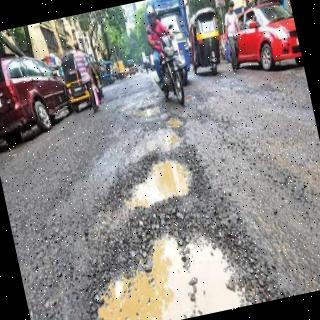pothole: (97, 236, 241, 320), (130, 161, 188, 207)
